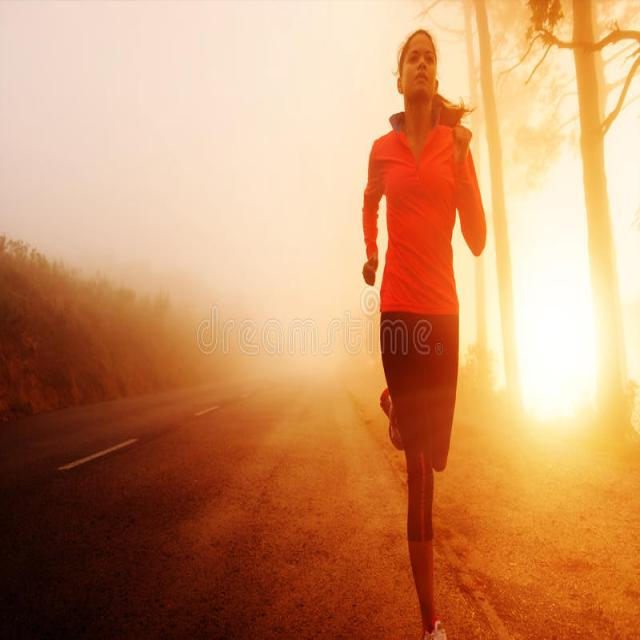running: (360, 24, 488, 640)
